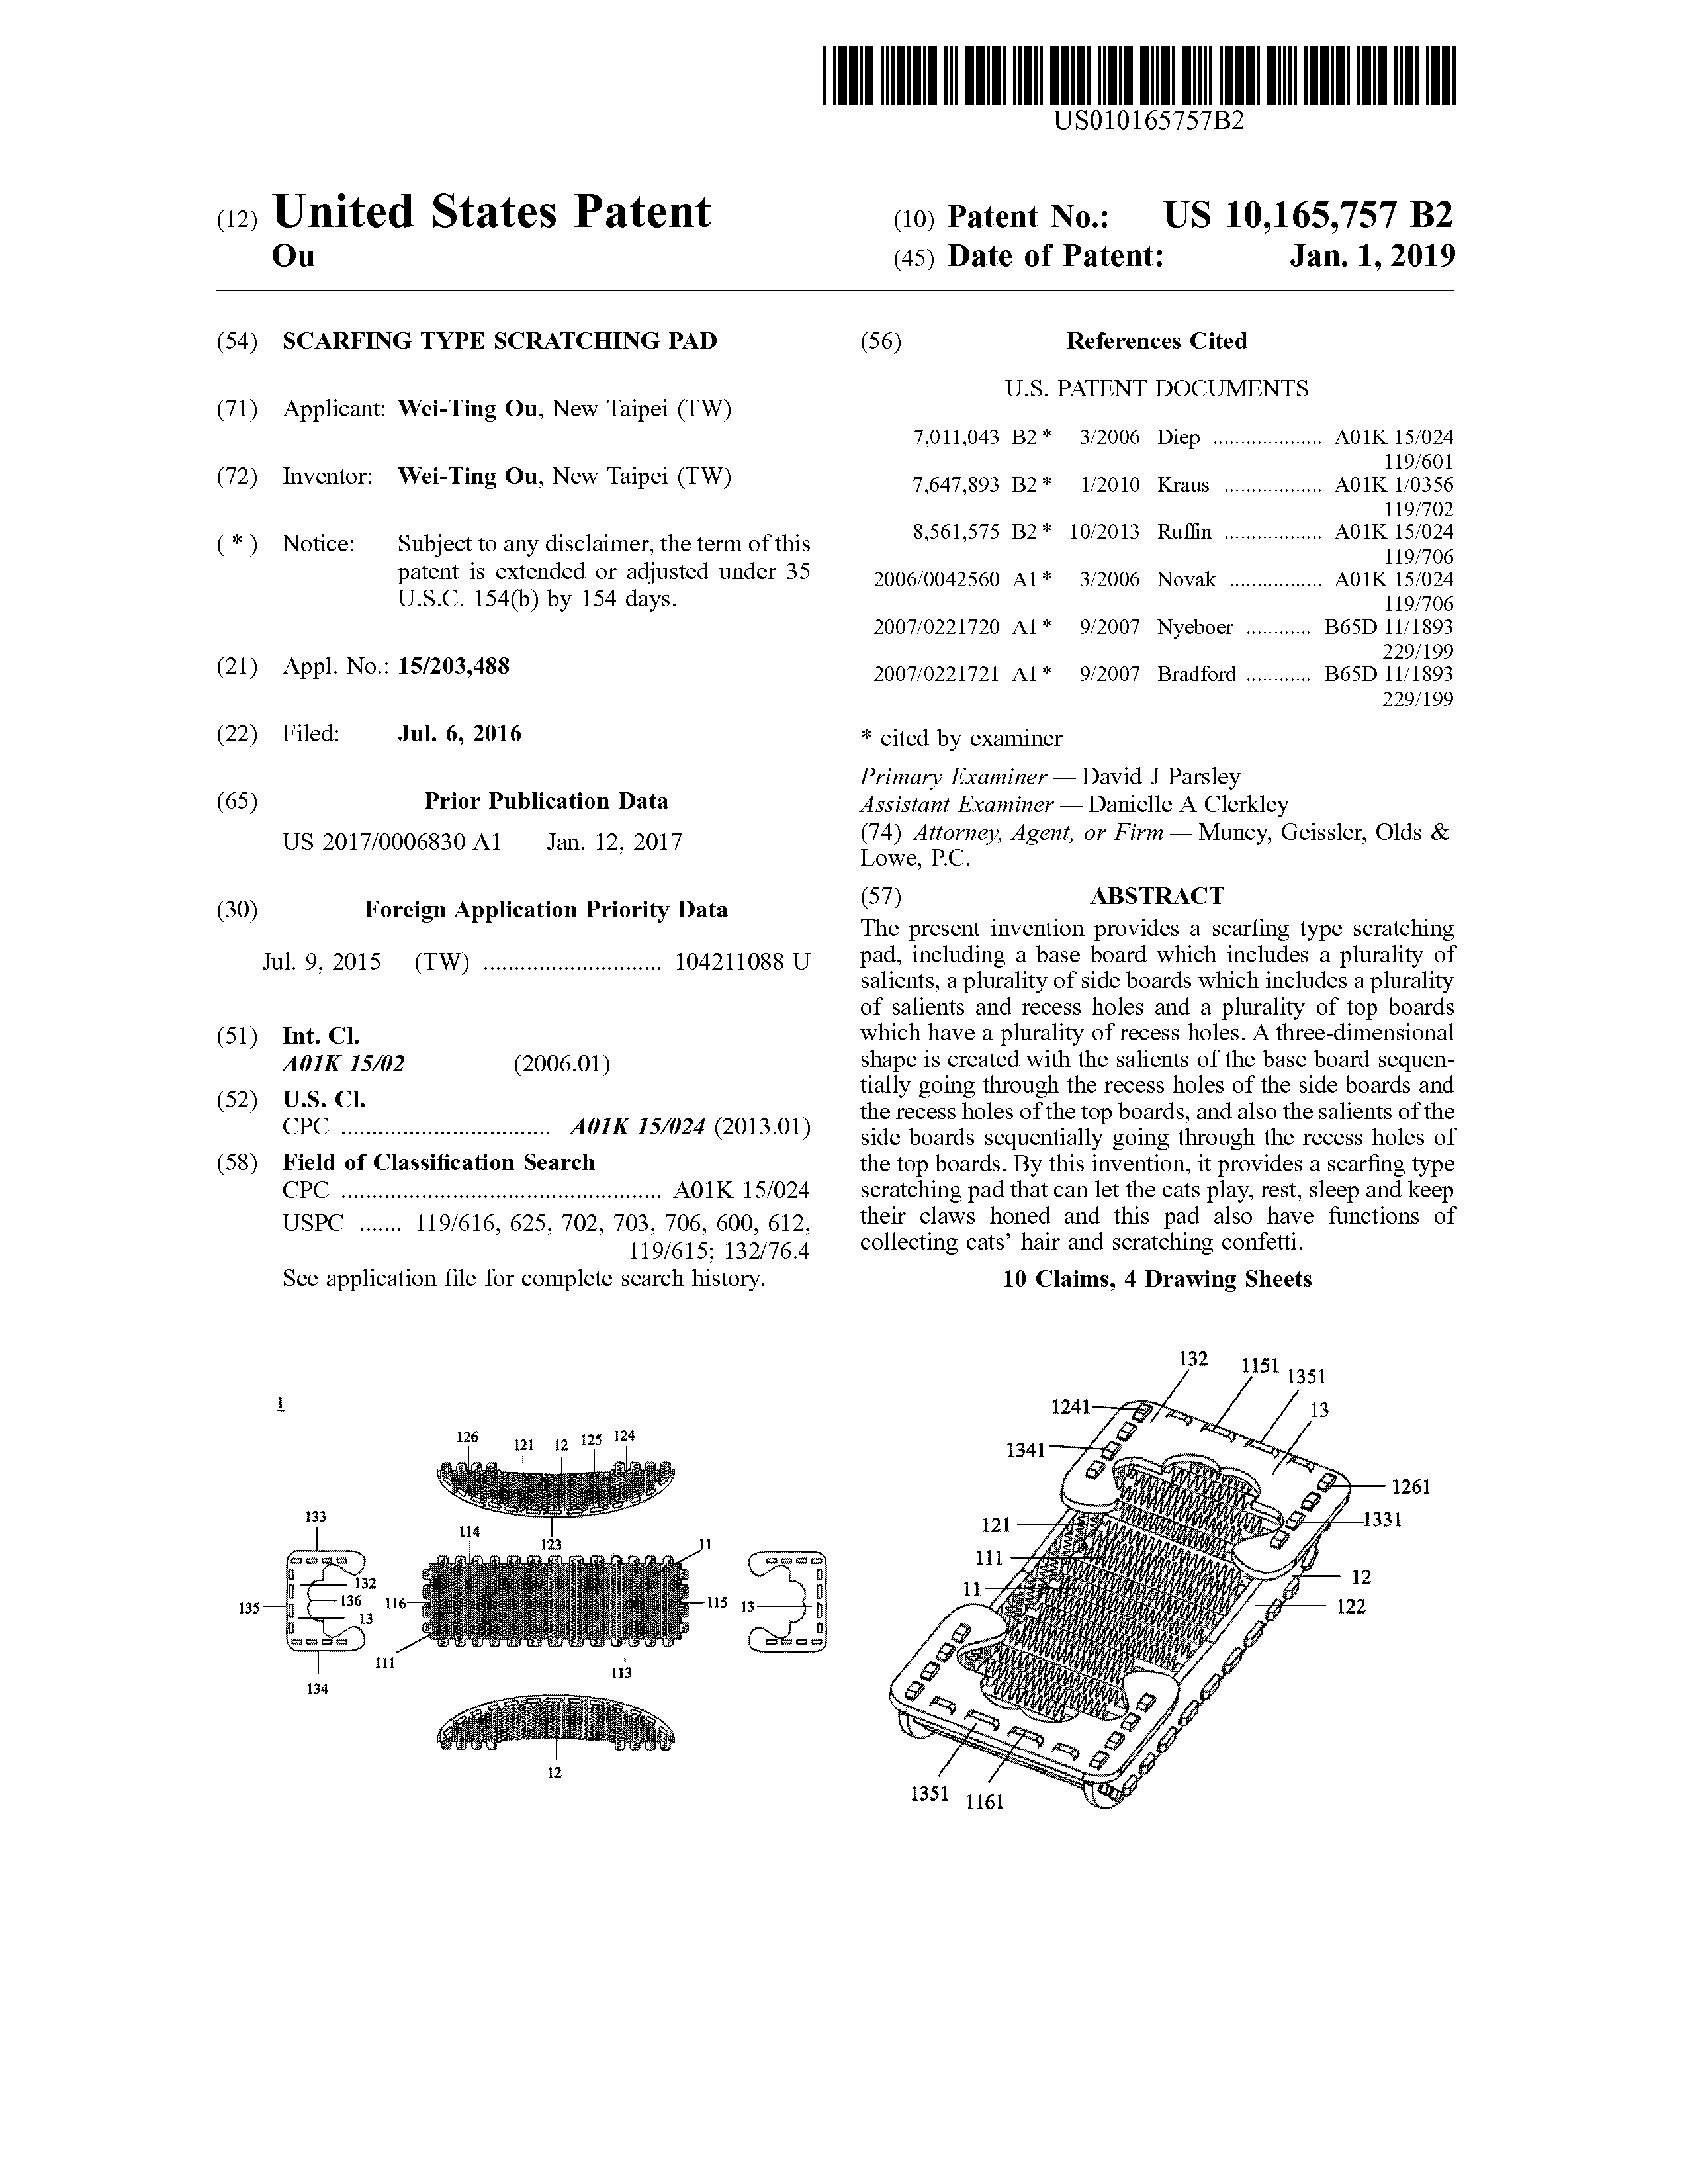patent image: (181, 1318, 1507, 1889)
